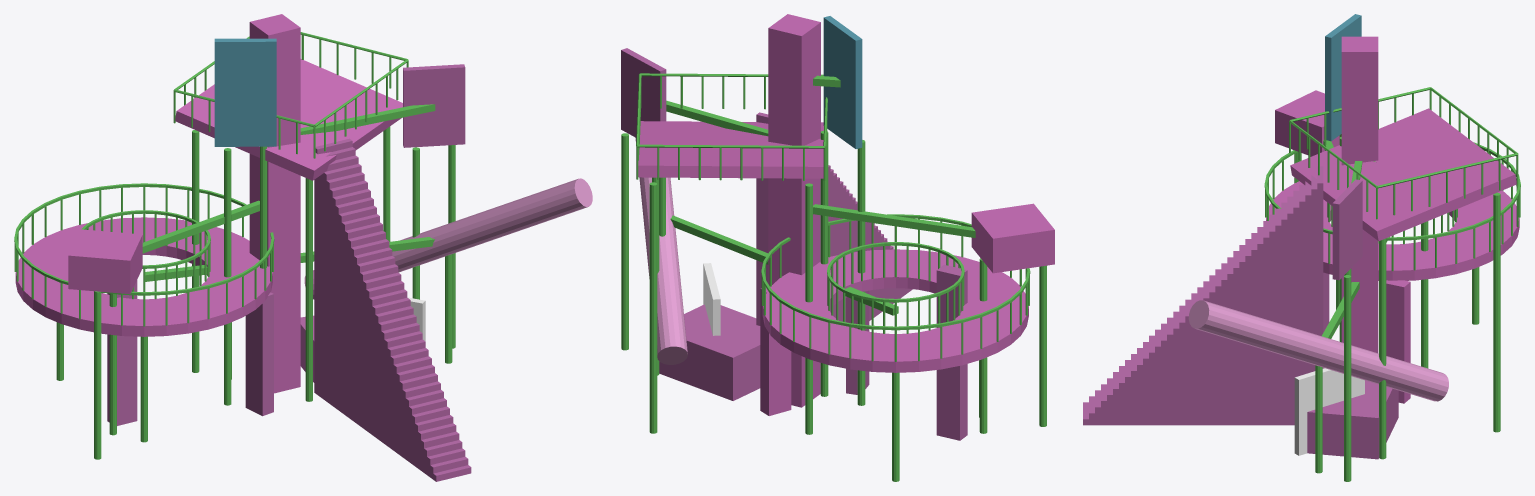
Rendered from folie_tag_034.glb.
3 renders of one model, left to right at view 1: azimuth 30°, elevation 25°; view 2: azimuth 150°, elevation 25°; view 3: azimuth 270°, elevation 25°, orthographic. The views are drawn at different scales.
Parts seen in each view (by area): view 1: folie_tag_034_stairs, folie_tag_034_line, folie_tag_034_00_ring, folie_tag_034_core, folie_tag_034_01_plate, folie_tag_034_05_panel, folie_tag_034_03_tube, folie_tag_034_08_panel, folie_tag_034_09_block, folie_tag_034_10_fin, folie_tag_034_04_fin; view 2: folie_tag_034_line, folie_tag_034_00_ring, folie_tag_034_core, folie_tag_034_01_plate, folie_tag_034_02_block, folie_tag_034_09_block, folie_tag_034_05_panel, folie_tag_034_stairs, folie_tag_034_03_tube, folie_tag_034_04_fin, folie_tag_034_08_panel, folie_tag_034_07_fin (+2 smaller); view 3: folie_tag_034_stairs, folie_tag_034_line, folie_tag_034_01_plate, folie_tag_034_core, folie_tag_034_03_tube, folie_tag_034_00_ring, folie_tag_034_02_block, folie_tag_034_08_panel, folie_tag_034_06_panel, folie_tag_034_09_block, folie_tag_034_05_panel, folie_tag_034_07_fin.
Boxes of the visible parts, left/top/right/bottom form: folie_tag_034_stairs: left=314, top=138, right=471, bottom=481; folie_tag_034_line: left=14, top=32, right=455, bottom=459; folie_tag_034_00_ring: left=15, top=217, right=272, bottom=336; folie_tag_034_core: left=249, top=14, right=300, bottom=393; folie_tag_034_01_plate: left=175, top=59, right=402, bottom=180; folie_tag_034_05_panel: left=214, top=38, right=276, bottom=146; folie_tag_034_03_tube: left=304, top=178, right=592, bottom=299; folie_tag_034_08_panel: left=403, top=64, right=465, bottom=147; folie_tag_034_09_block: left=68, top=229, right=142, bottom=294; folie_tag_034_10_fin: left=245, top=292, right=273, bottom=416; folie_tag_034_04_fin: left=107, top=280, right=137, bottom=425; folie_tag_034_line: left=621, top=73, right=1046, bottom=481; folie_tag_034_00_ring: left=762, top=249, right=1028, bottom=372; folie_tag_034_core: left=768, top=14, right=820, bottom=407; folie_tag_034_01_plate: left=638, top=121, right=823, bottom=178; folie_tag_034_02_block: left=659, top=304, right=760, bottom=400; folie_tag_034_09_block: left=971, top=203, right=1054, bottom=273; folie_tag_034_05_panel: left=823, top=16, right=862, bottom=148; folie_tag_034_stairs: left=756, top=112, right=912, bottom=325; folie_tag_034_03_tube: left=635, top=137, right=687, bottom=364; folie_tag_034_04_fin: left=936, top=264, right=967, bottom=440; folie_tag_034_08_panel: left=621, top=48, right=666, bottom=137; folie_tag_034_07_fin: left=760, top=286, right=791, bottom=415; folie_tag_034_stairs: left=1083, top=166, right=1323, bottom=425; folie_tag_034_line: left=1264, top=87, right=1520, bottom=481; folie_tag_034_01_plate: left=1290, top=108, right=1516, bottom=241; folie_tag_034_core: left=1341, top=36, right=1378, bottom=353; folie_tag_034_03_tube: left=1188, top=300, right=1448, bottom=401; folie_tag_034_00_ring: left=1266, top=181, right=1519, bottom=280; folie_tag_034_02_block: left=1307, top=380, right=1398, bottom=459; folie_tag_034_08_panel: left=1332, top=179, right=1362, bottom=280; folie_tag_034_06_panel: left=1294, top=368, right=1364, bottom=455; folie_tag_034_09_block: left=1275, top=90, right=1339, bottom=156; folie_tag_034_05_panel: left=1325, top=14, right=1361, bottom=141; folie_tag_034_07_fin: left=1386, top=280, right=1410, bottom=403.
Size of the model in its own units: 15.93 by 11.71 by 13.12.
